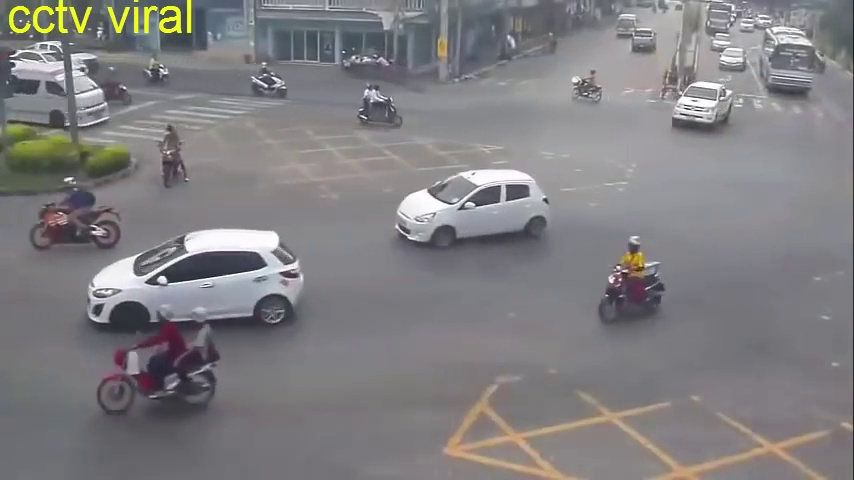car: (89, 229, 305, 336), (397, 161, 555, 246), (7, 59, 107, 130), (762, 25, 813, 95), (673, 82, 737, 134), (721, 44, 744, 71), (632, 29, 657, 52), (616, 15, 635, 38)
motorbike: (100, 307, 217, 417), (33, 175, 122, 254), (601, 234, 663, 323), (359, 82, 404, 127), (161, 123, 184, 188), (250, 61, 287, 97), (572, 70, 606, 106), (145, 52, 171, 88)
